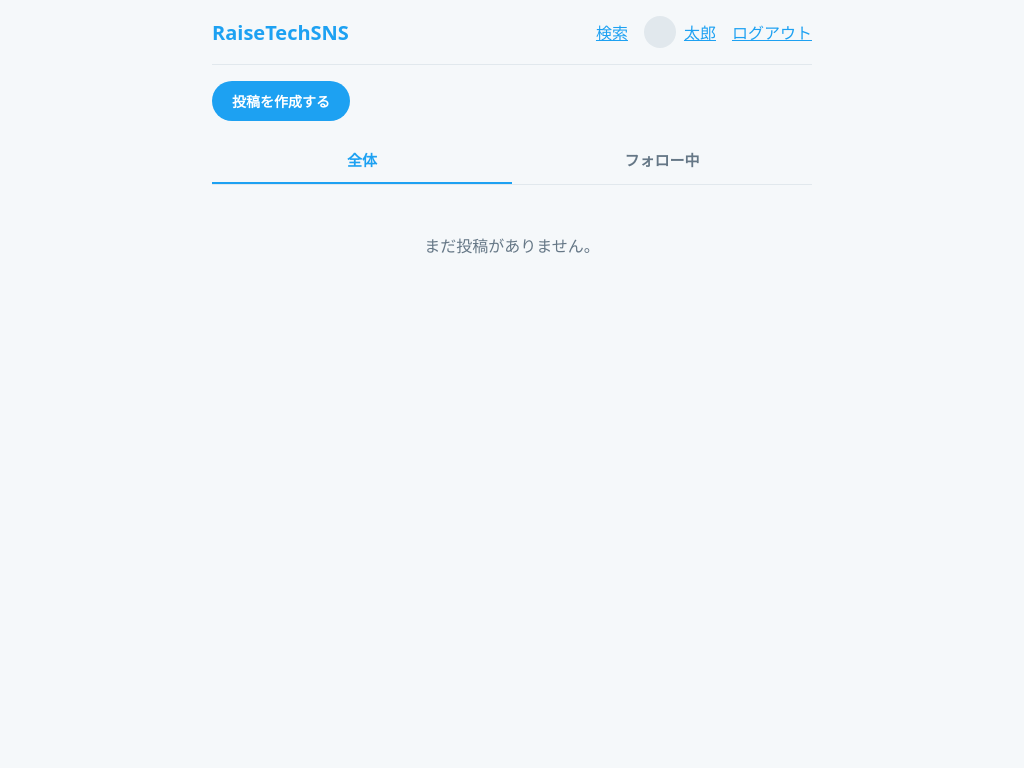
Scenario: TimelineScreen › 投稿内容のテキストエリアには280文字のmaxLengthが設定されており、未入力時は投稿ボタンが無効になる
Click the button "投稿を作成する" at (281, 101), box [212, 81, 350, 121]
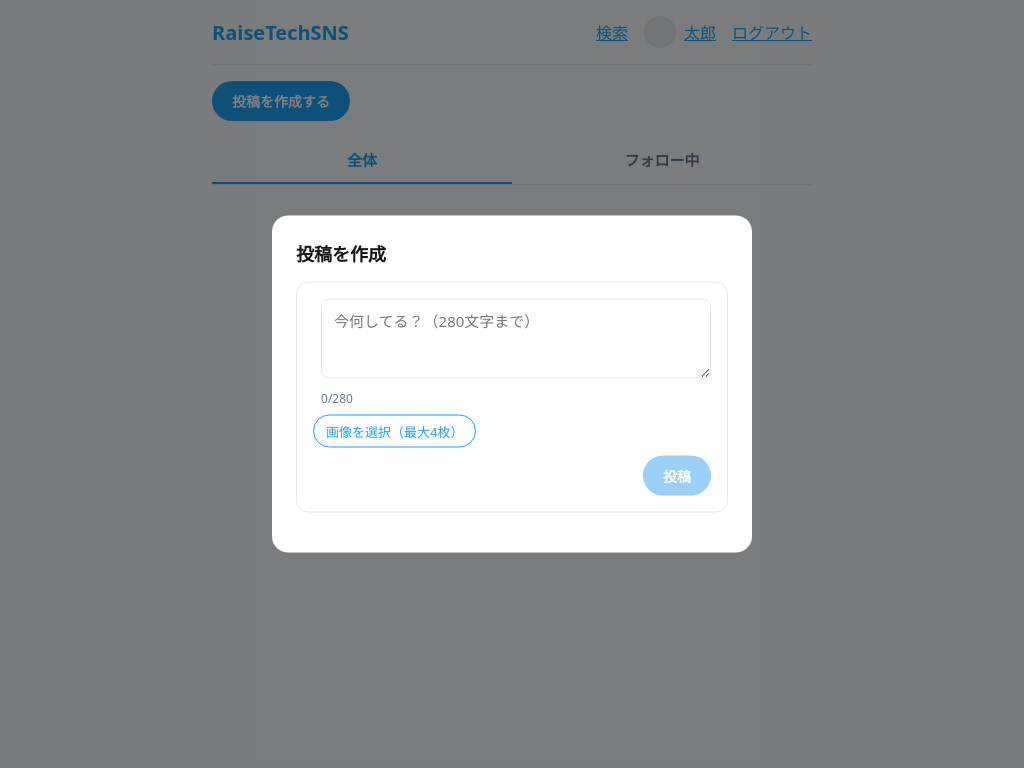
Expected: the button "投稿" is disabled, [643, 456, 711, 496]
Type "こんにちは" into the text box named "投稿内容" at (516, 338), box [321, 298, 711, 378]
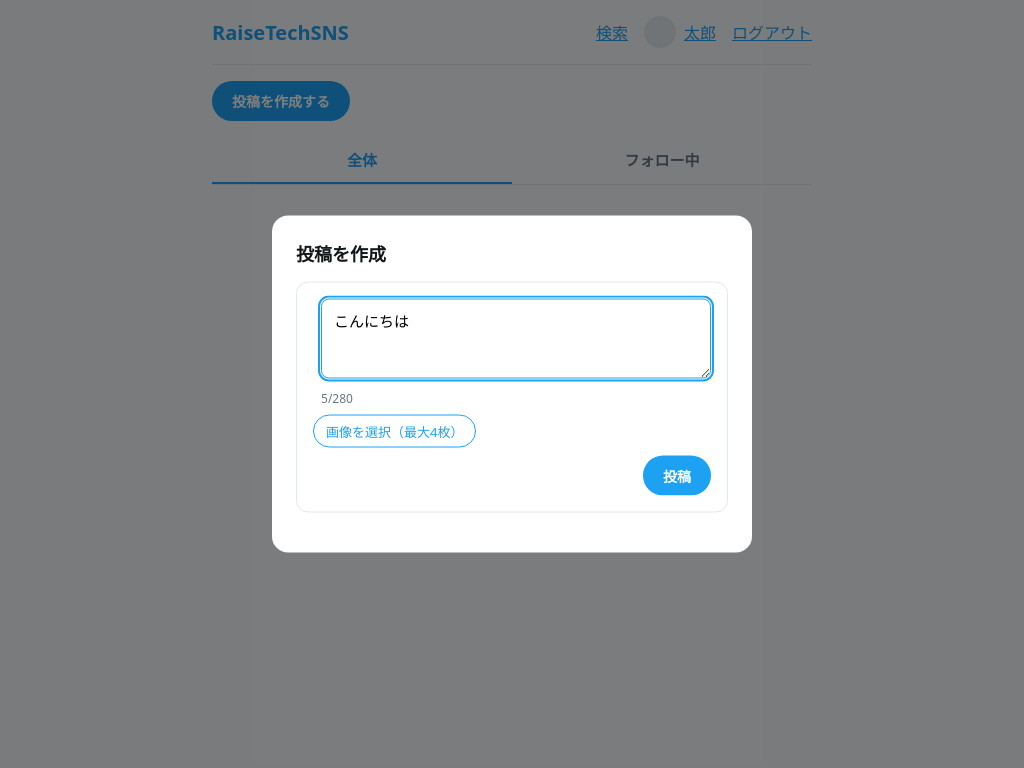
Expected: the button "投稿" is enabled, [643, 456, 711, 496]
